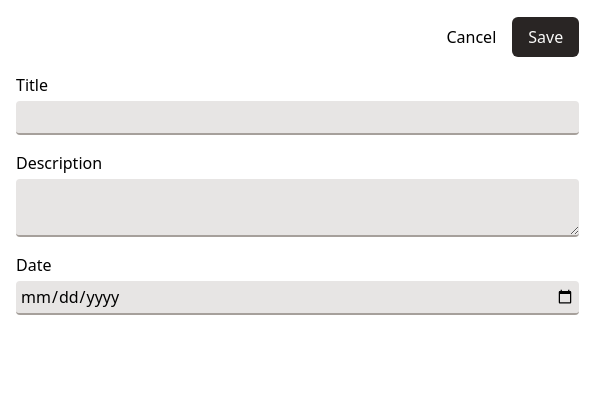
Test: input handling and validation › shows validation errors when all inputs are blank
Click the button "Save".
click(546, 37)  # box top-left (512, 17), bottom-right (579, 57)
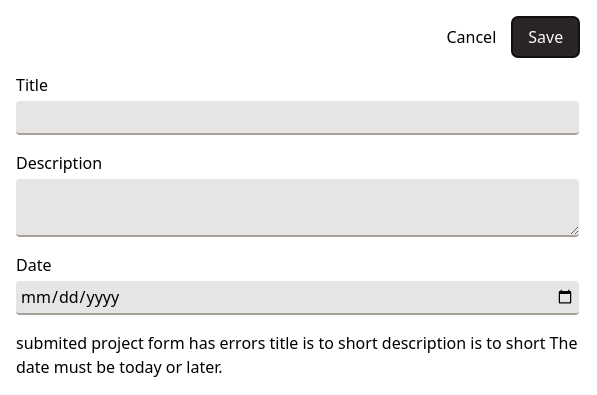
expect the text "title is to short" is shown: met, box top-left (265, 332), bottom-right (382, 354)
expect the text "description is to short" is shown: met, box top-left (382, 332), bottom-right (545, 354)
expect the text "The date must be today or later." is shown: met, box top-left (16, 332), bottom-right (577, 378)
